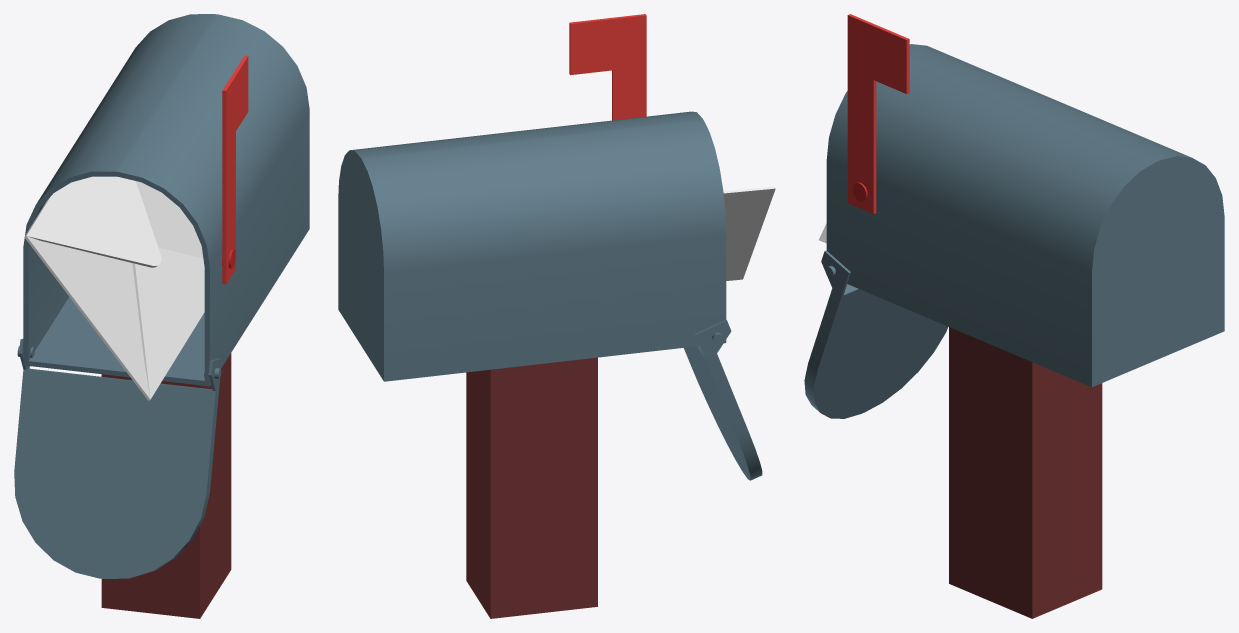
The model's file is open_mailbox_with_raised_flag.gltf.
3 renders of one model, left to right at view 1: azimuth 30°, elevation 25°; view 2: azimuth 150°, elevation 25°; view 3: azimuth 270°, elevation 25°, orthographic. The views are drawn at different scales.
Parts seen in each view (by area): view 1: Cube.972; view 2: Cube.972; view 3: Cube.972.
Part boxes in pixels (left/top/right/bottom): Cube.972: left=14, top=14, right=309, bottom=618; Cube.972: left=338, top=14, right=775, bottom=618; Cube.972: left=804, top=14, right=1224, bottom=618.
Bounding box in the file's own units: 1.54 × 2.21 × 1.51.
Materials: 1 (1 with a texture image).
